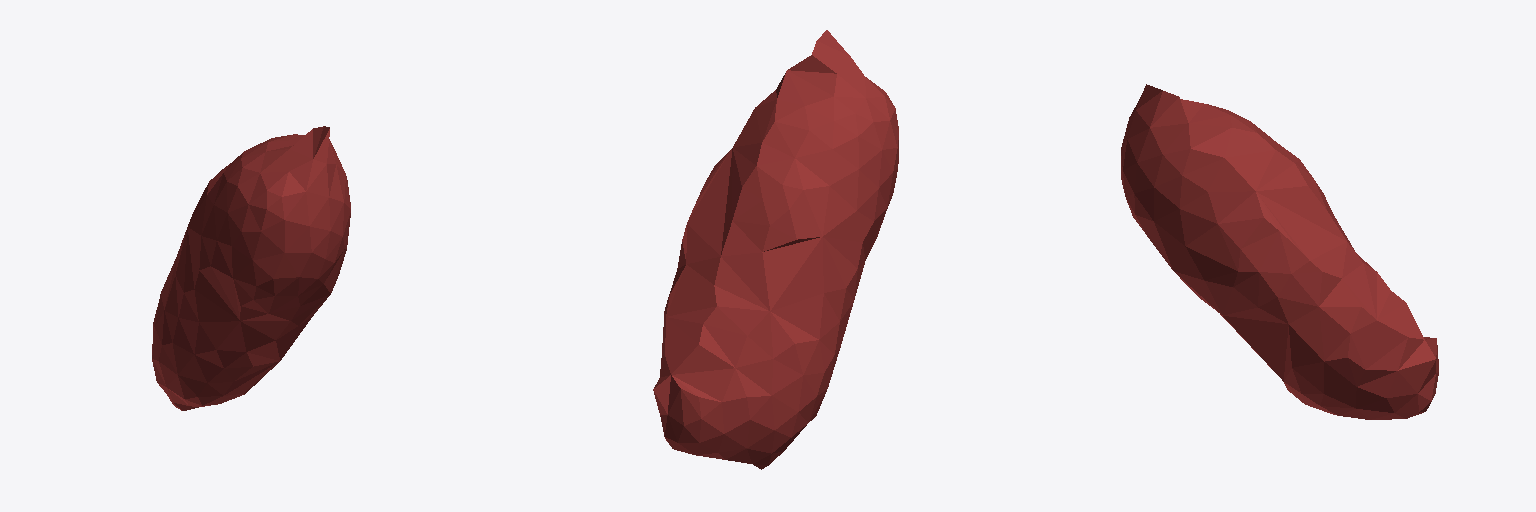
File: Model_10558_LH__Hypoglossal_nucleus_(12N).obj
The picture shows the model from 3 angles: view 1: azimuth 30°, elevation 25°; view 2: azimuth 150°, elevation 25°; view 3: azimuth 270°, elevation 25°; orthographic projection.
Size of the model in its own units: 0.4608 by 1.02 by 0.8397.